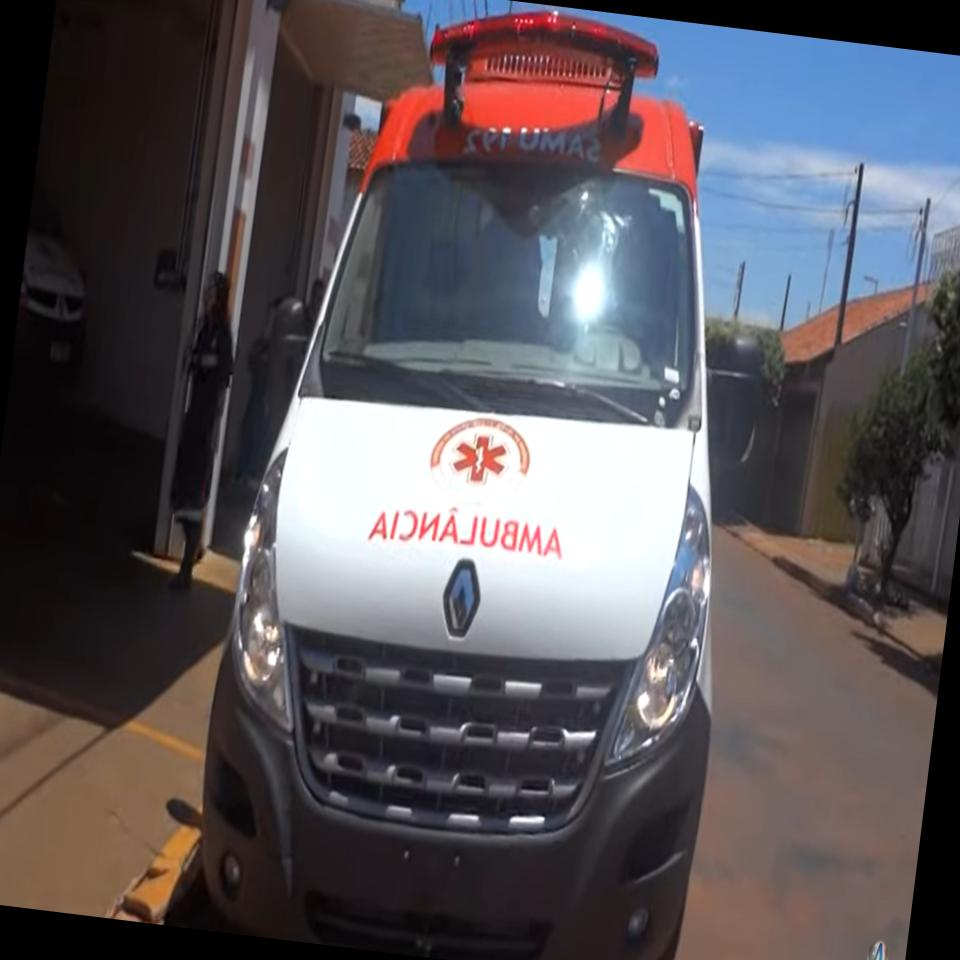bombeiro: (179, 0, 801, 960)
